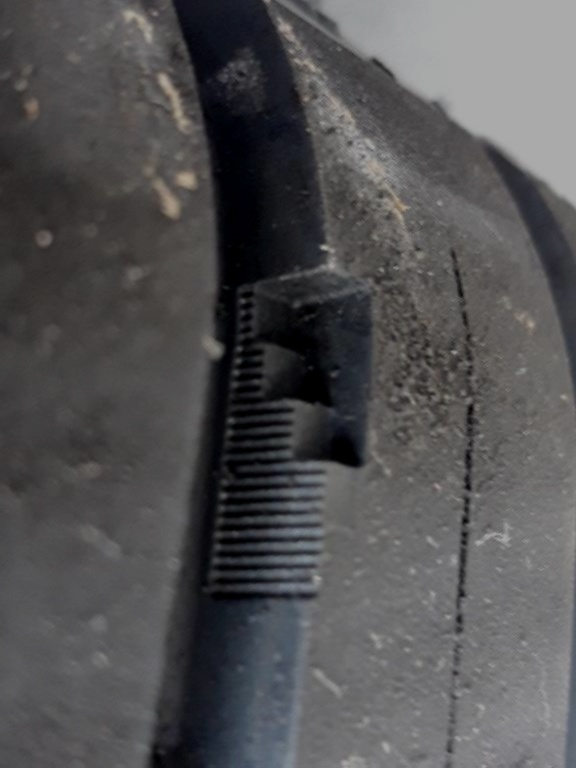temoin:75: (200, 256, 388, 543)
